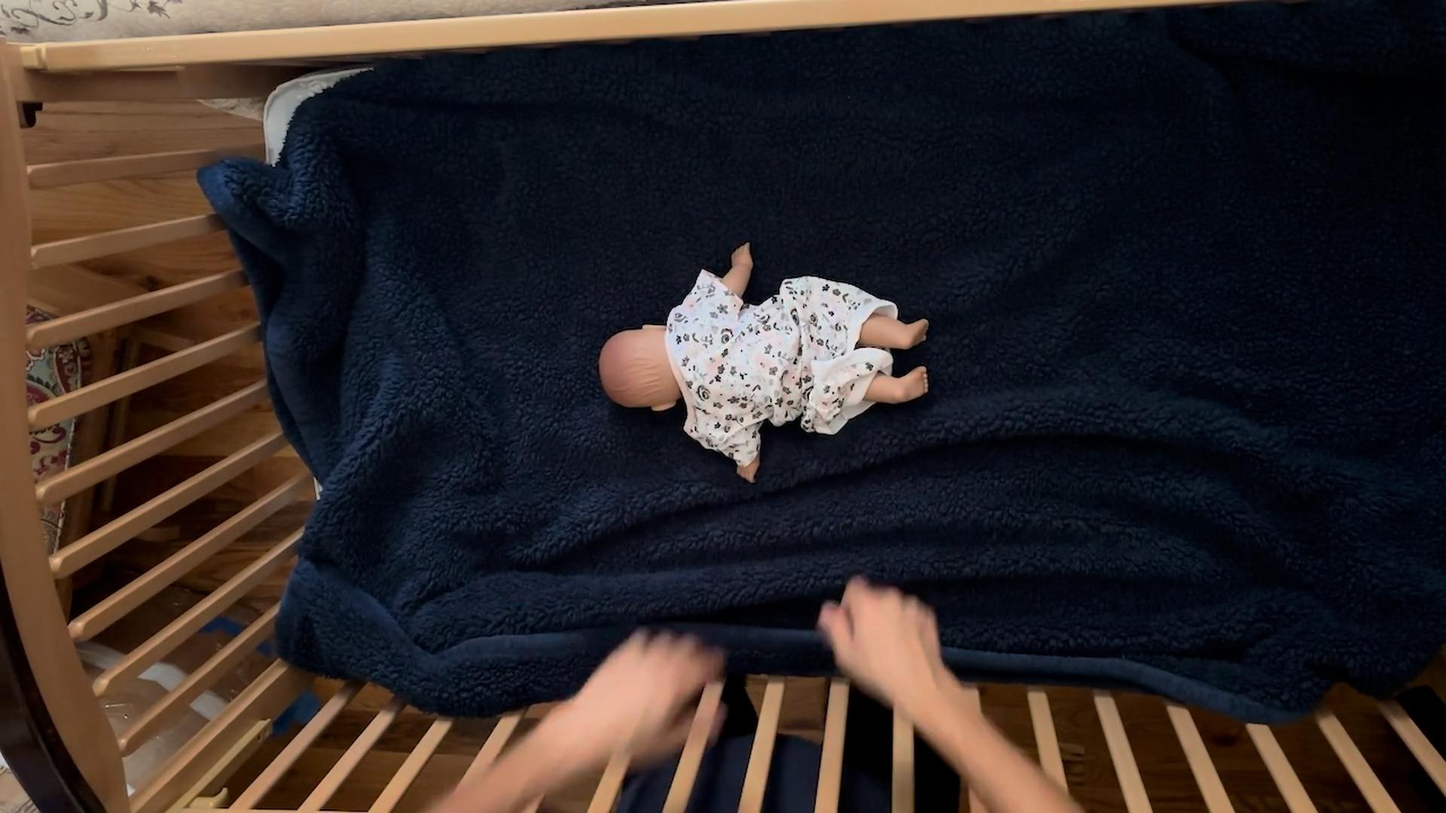baby: (592, 241, 934, 486)
